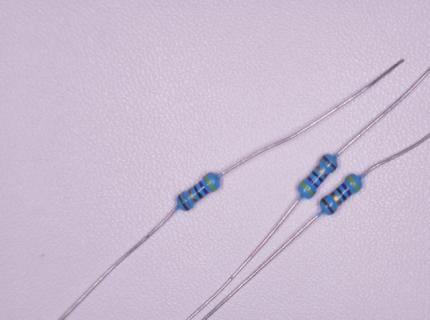Black band: (336, 187, 347, 201), (194, 185, 203, 200), (312, 170, 323, 182)
Brown band: (322, 198, 334, 215), (323, 155, 337, 169), (178, 194, 188, 212)
Gold band: (330, 191, 343, 206), (315, 165, 328, 178), (188, 188, 198, 203)
Violet band: (340, 183, 352, 196), (306, 176, 319, 188), (199, 181, 209, 194)
Yellow band: (300, 181, 315, 196), (347, 175, 360, 192), (204, 174, 216, 191)
